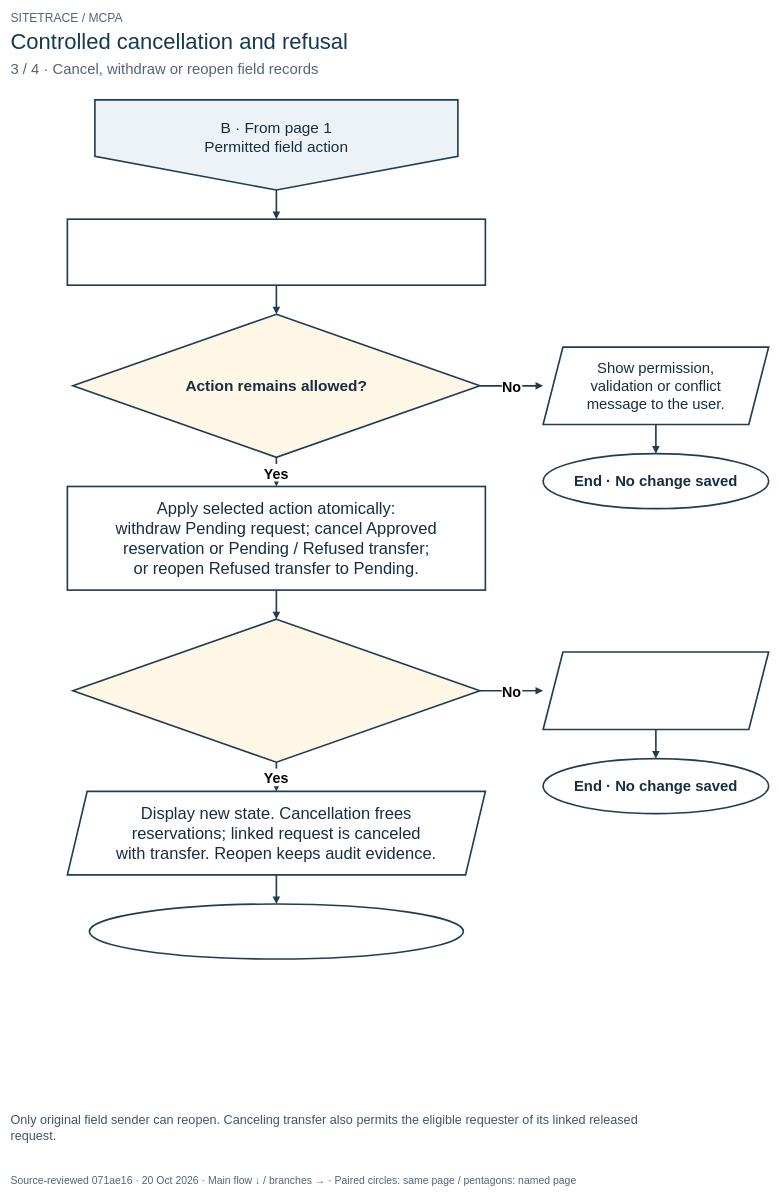
The diagram is 779 pixels wide and 1198 high, and some of its shapes have lost their labels. Each missing label, with the centre of its shape:
Action committed?: the point at 276,690
End · Field interruption saved: the point at 276,931
Show conflict / error; reload record state and allowedActions.: the point at 655,690
Validate original actor, record state and action-specific ownership again.: the point at 276,252
